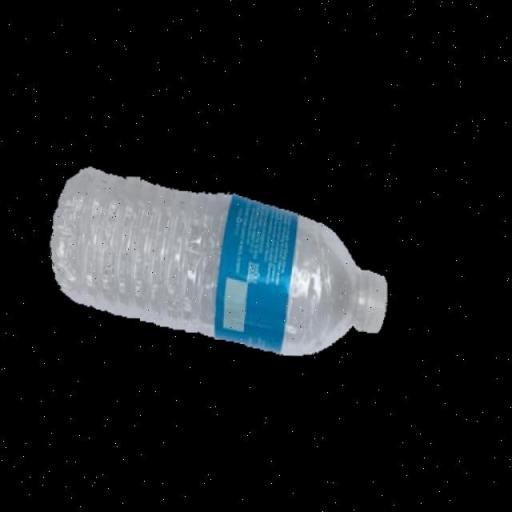plastic: (46, 166, 392, 358)
